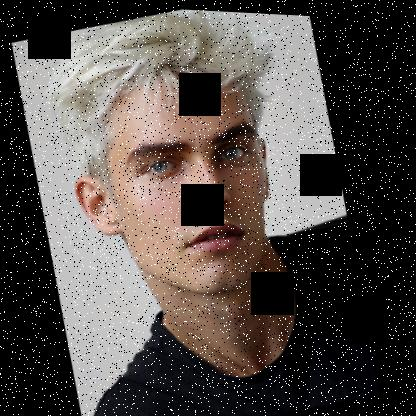Male: (46, 39, 306, 324)
